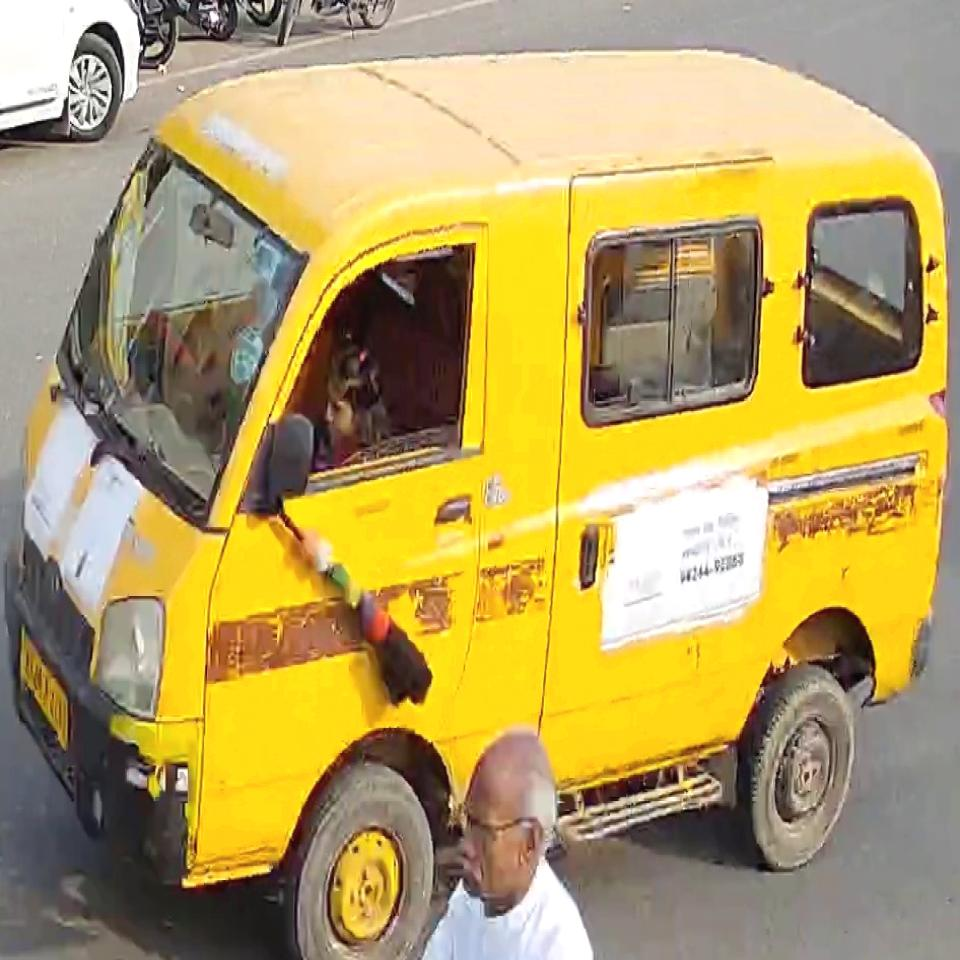head_light: (91, 592, 170, 714)
